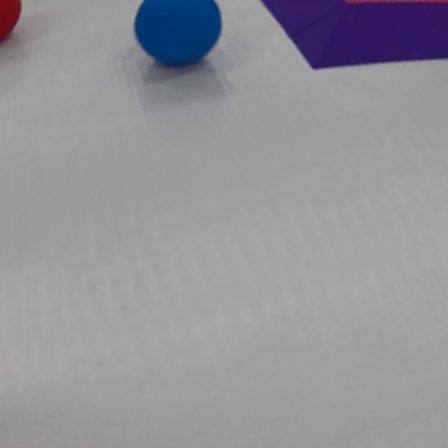blue: (125, 0, 221, 70)
red_aim: (257, 0, 448, 68)
